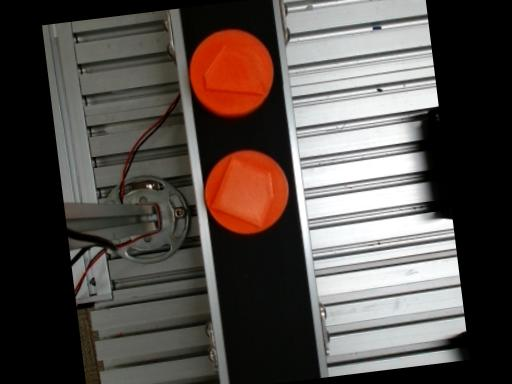Not_Square: (210, 154, 276, 227), (205, 43, 265, 94)
Orange_Waper: (190, 28, 273, 116), (205, 148, 288, 232)
